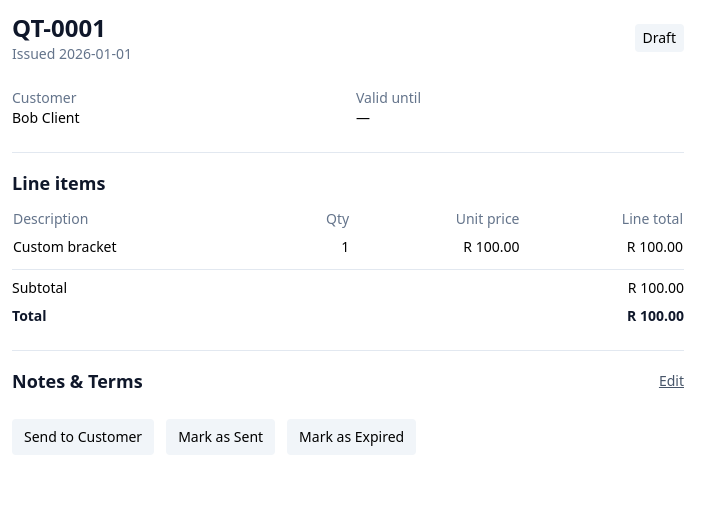
Test case: QuoteDetailPage › sends the quote, downloads the PDF, and shows the real (non-dev-mode) success message when devMode is false
This screenshot has width=701, height=516.
Step 1. Click the button "Send to Customer" → x=83, y=437, box [12,419,154,455]
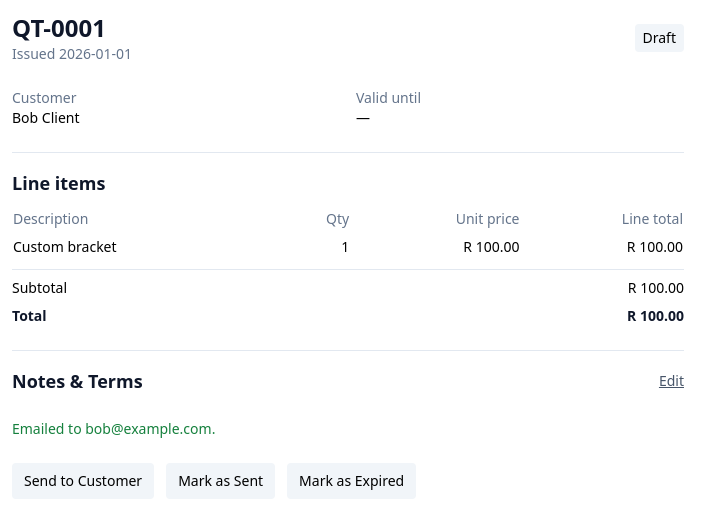
Result: the text "Emailed to bob@example.com." is shown at [12,419,215,438]
